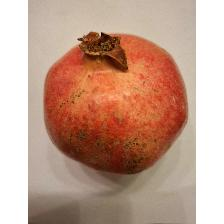Granatapfel: (44, 27, 190, 175)
